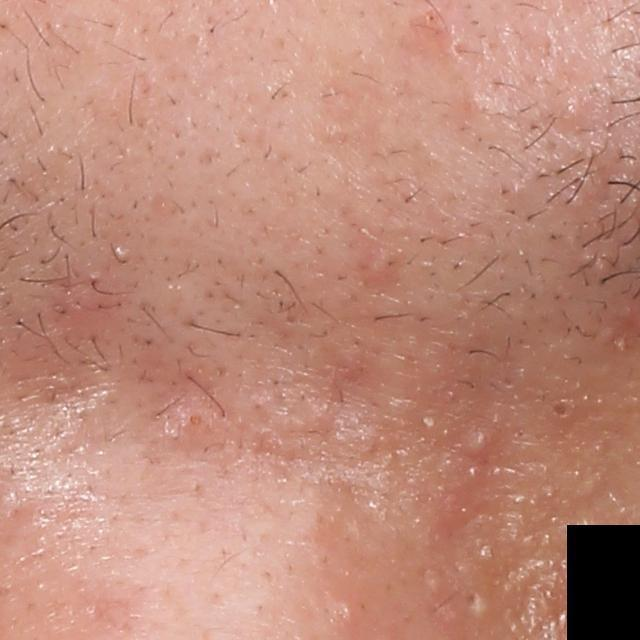comedo: (542, 391, 579, 422), (554, 99, 584, 127), (338, 600, 355, 623), (422, 10, 441, 26)
